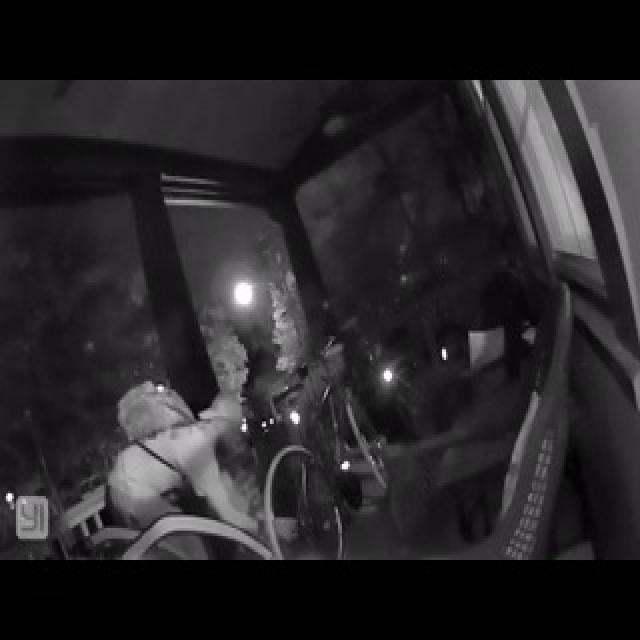thief: (103, 378, 270, 537)
